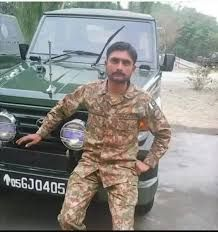uniform: (47, 70, 172, 224)
